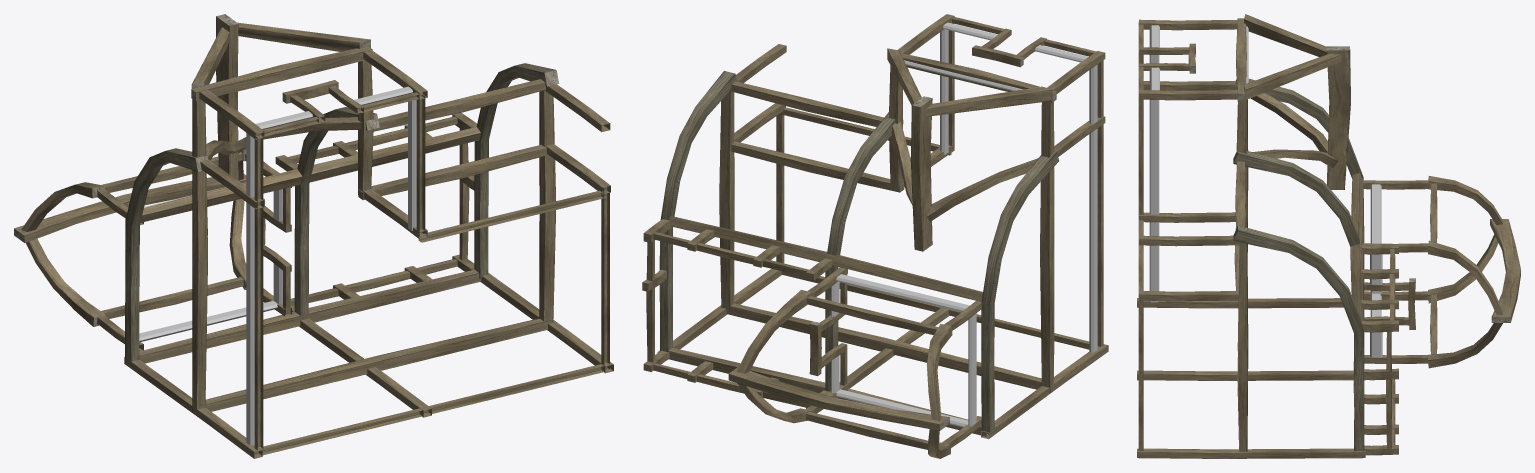
Rendered from Pirate_House_Structure_F.fbx.
3 views of the same model, side by side, from view 1: azimuth 30°, elevation 25°; view 2: azimuth 150°, elevation 25°; view 3: azimuth 270°, elevation 25° (orthographic). The views are drawn at different scales.
Visible parts, largest first — view 1: Pirate_House_Structure_F; view 2: Pirate_House_Structure_F; view 3: Pirate_House_Structure_F.
Boxes of the visible parts, bbox=[...] form: Pirate_House_Structure_F: bbox=[14, 14, 613, 458]; Pirate_House_Structure_F: bbox=[642, 14, 1108, 458]; Pirate_House_Structure_F: bbox=[1137, 14, 1520, 458].
Bounding box in the file's own units: 15.45 × 12.8 × 15.01.
